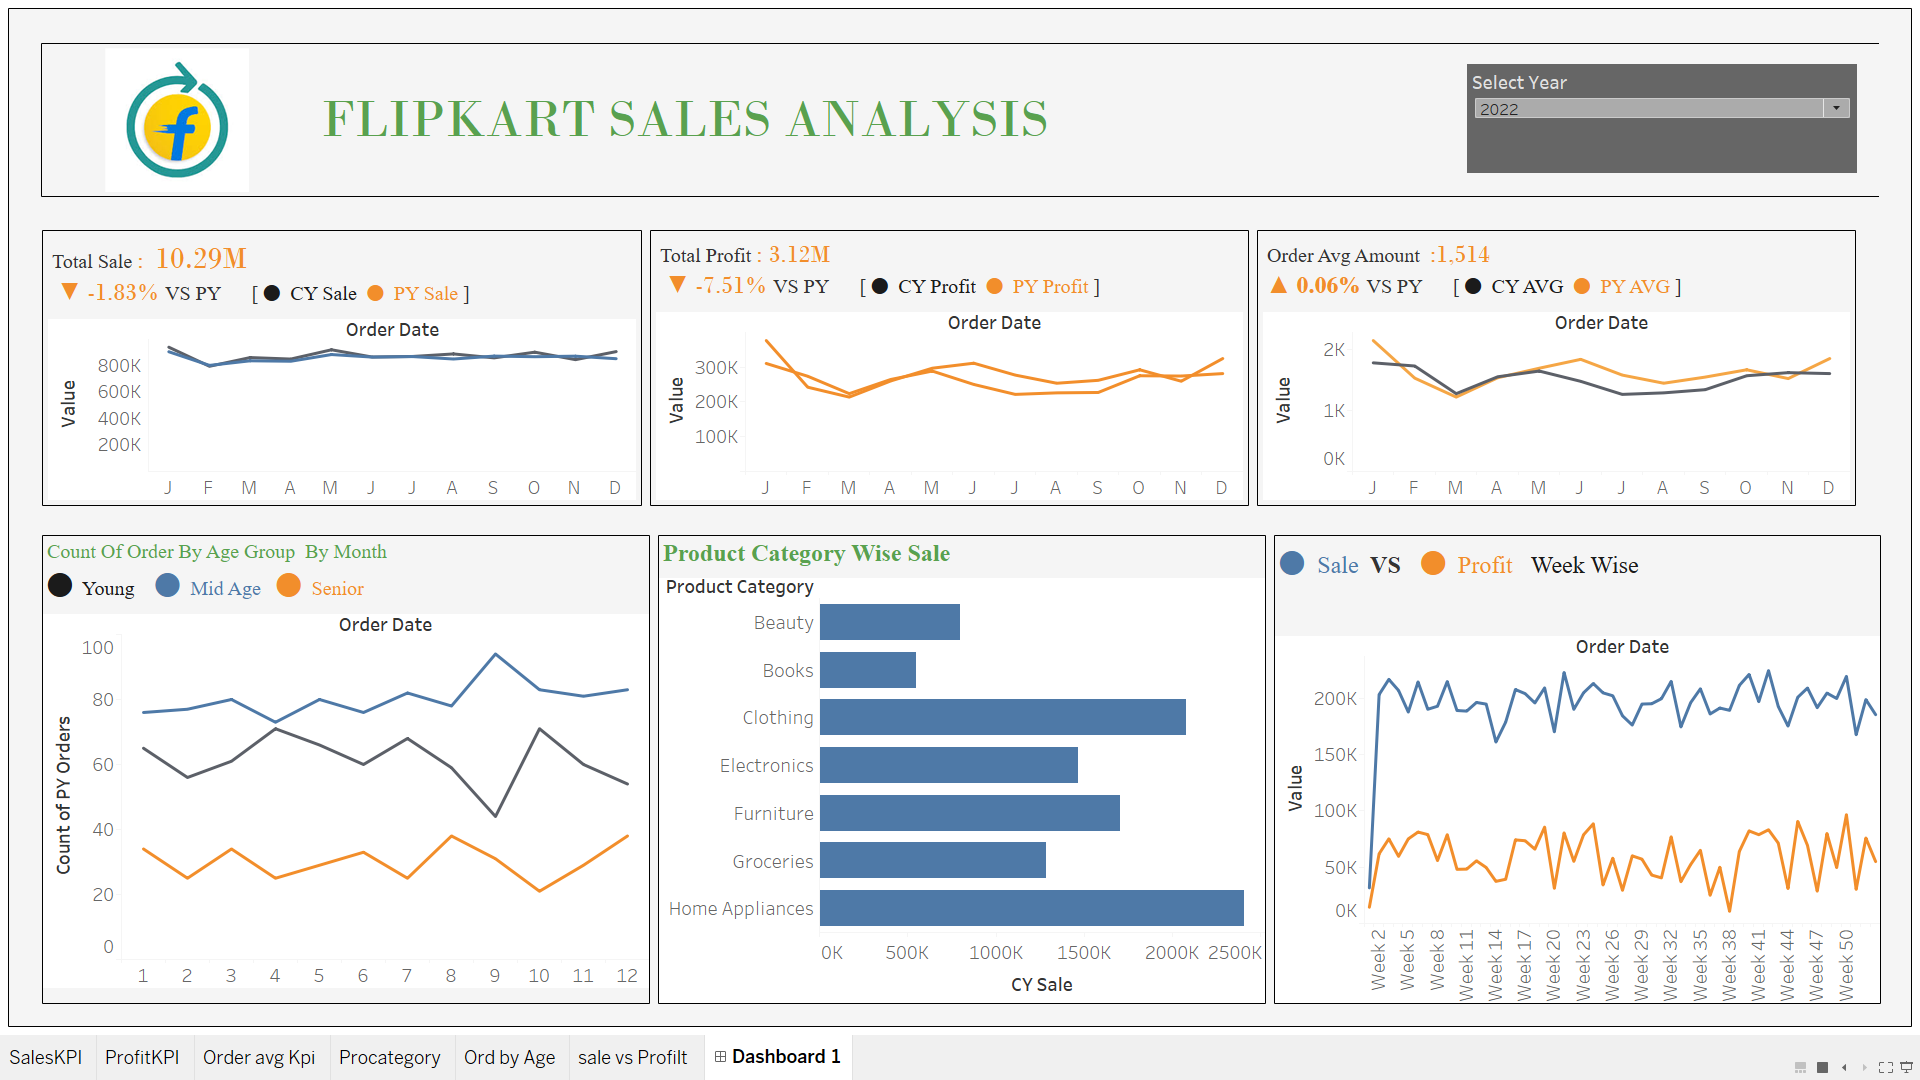

What the dashboard file says about the page in this screenshot:
{"tool":"tableau","page":{"name":"Flipkart Das_bd","canvas":[1000,1000],"units":"permille","ordinal":0},"visuals":[{"type":"image","param":"Image/images.jpeg","box":[21.8,42.8,169.9,146.7]},{"type":"text","box":[191.7,42.8,577,146.7]},{"type":"blank","box":[768.8,42.8,209.4,146.7]},{"type":"parameter","param":"[Parameters].[Parameter 1]","box":[761.3,57.5,208.6,114.9]},{"type":"worksheet","title":"SalesKPI","mark":"Automatic","cols":["Order_Date"],"box":[20.1,218.8,316.6,273.8]},{"type":"worksheet","title":"ProfitKPI","mark":"Automatic","cols":["Order_Date"],"box":[336.7,218.8,316,273.8]},{"type":"worksheet","title":"Order avg Kpi","mark":"Automatic","cols":["Order_Date"],"box":[652.7,218.8,316,273.8]},{"type":"worksheet","title":"Ord by Age","mark":"Automatic","rows":["PY Sale  (copy)_89509044611256332"],"cols":["Order_Date"],"box":[20.1,513.5,321,460.9]},{"type":"worksheet","title":"Procategory","mark":"Bar","rows":["Product_Category"],"cols":["Calculation_89509044569919489"],"box":[341.1,513.5,320.4,460.9]},{"type":"worksheet","title":"sale vs Profilt","mark":"Automatic","cols":["Order_Date"],"box":[661.4,513.5,320.4,460.9]}]}

Visuals, with their boxes on the dashboard's canvas, which has no fixed pixel size, in thousandths of its width and height (x1, y1, x2, y2). These are canvas units, not pixel positions in the 1920x1080 screenshot, which may show the page scaled, cropped or inside an application window:
image: bbox=(22, 43, 192, 190)
text: bbox=(192, 43, 769, 190)
blank: bbox=(769, 43, 978, 190)
parameter: bbox=(761, 58, 970, 172)
"SalesKPI" worksheet: bbox=(20, 219, 337, 493)
"ProfitKPI" worksheet: bbox=(337, 219, 653, 493)
"Order avg Kpi" worksheet: bbox=(653, 219, 969, 493)
"Ord by Age" worksheet: bbox=(20, 514, 341, 974)
"Procategory" worksheet (Bar marks): bbox=(341, 514, 662, 974)
"sale vs Profilt" worksheet: bbox=(661, 514, 982, 974)
